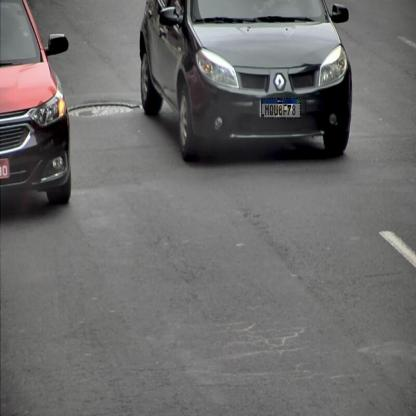PlacaM: (261, 98, 301, 119)
